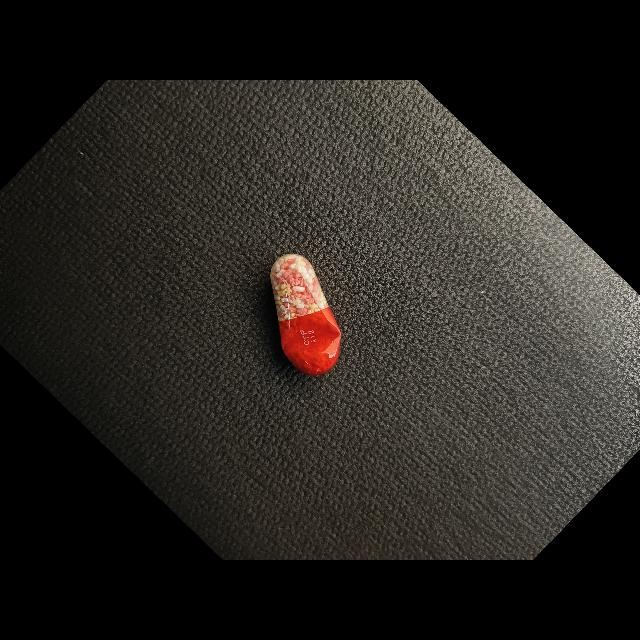Defective Capsule: (270, 254, 342, 376)
